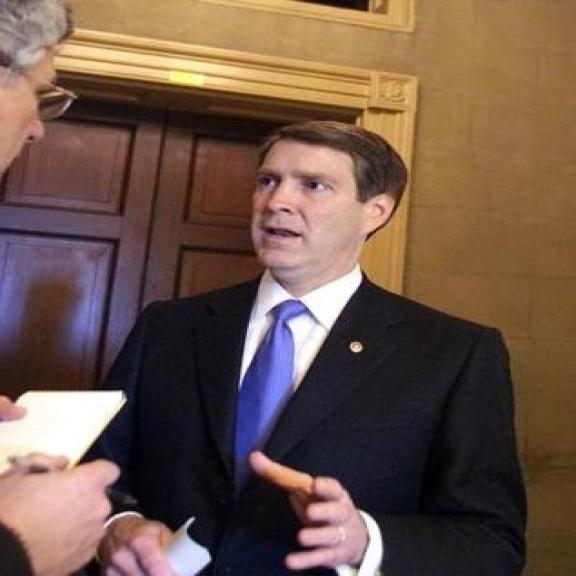face: (252, 124, 404, 278)
